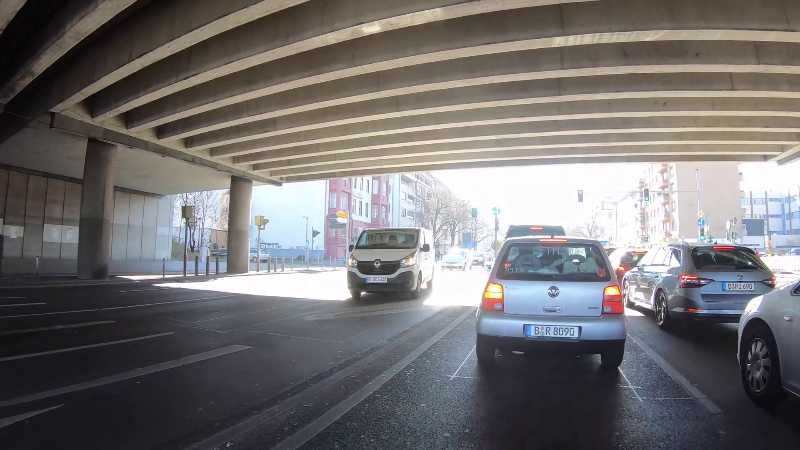Plate: (522, 323, 581, 339), (720, 280, 756, 292), (363, 276, 391, 284)
